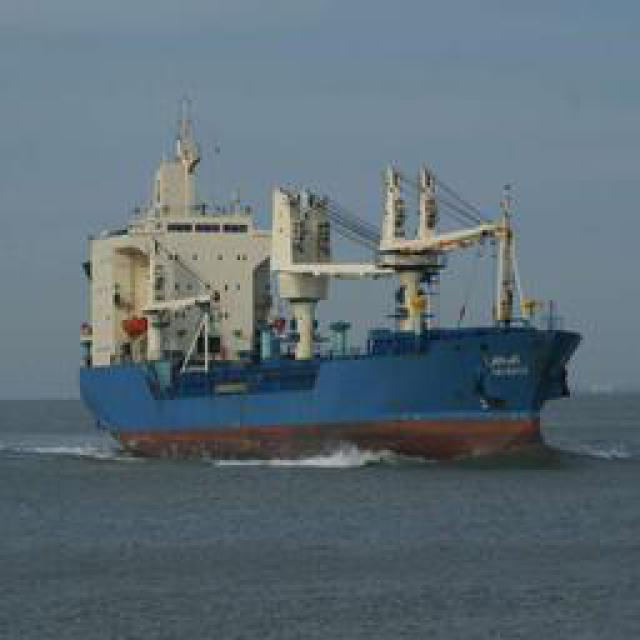Ship: (85, 121, 585, 456)
